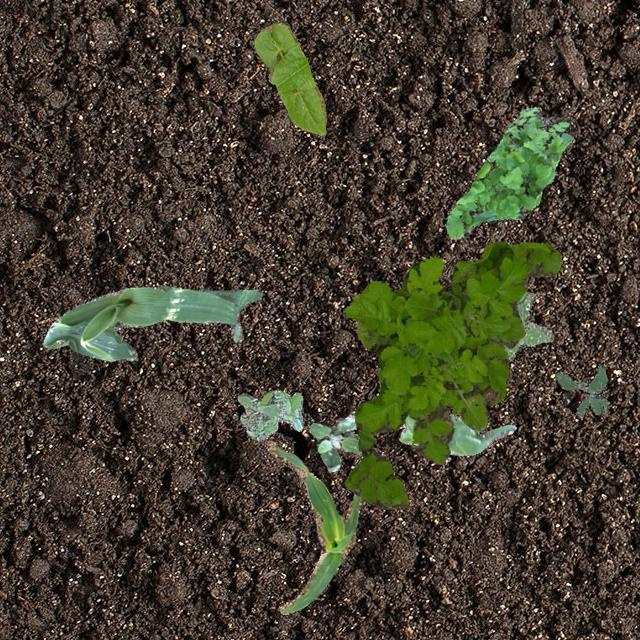crop: (42, 284, 262, 360), (266, 440, 362, 614), (252, 22, 326, 134), (398, 414, 514, 454), (356, 319, 382, 382)
weed: (342, 241, 560, 508), (446, 106, 572, 238), (502, 290, 554, 362), (236, 388, 302, 439), (308, 410, 362, 470), (554, 364, 608, 414)
